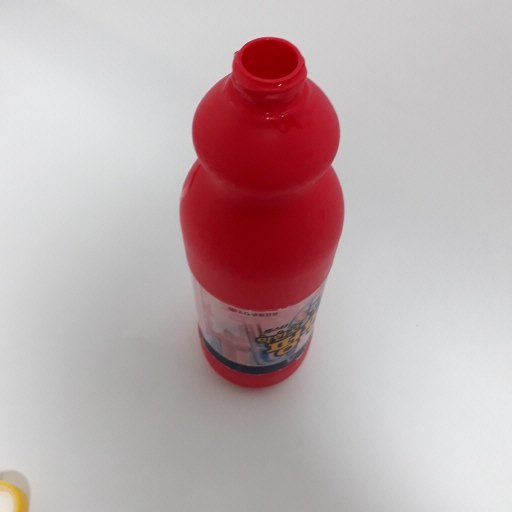Plastic_0: (175, 35, 344, 391)
